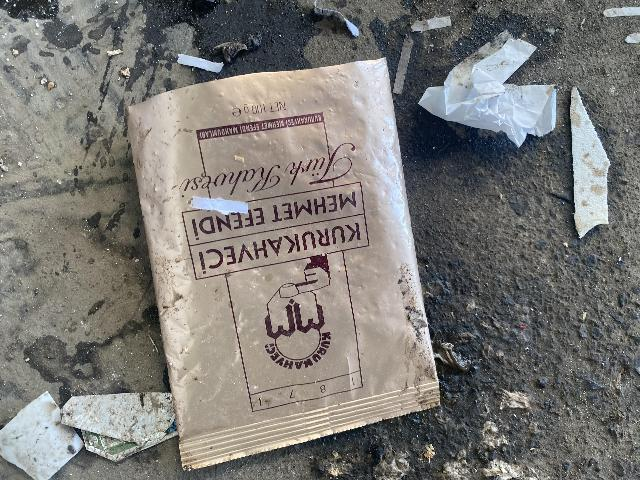Plastik: (116, 79, 432, 443), (422, 33, 562, 157), (0, 390, 83, 480)
